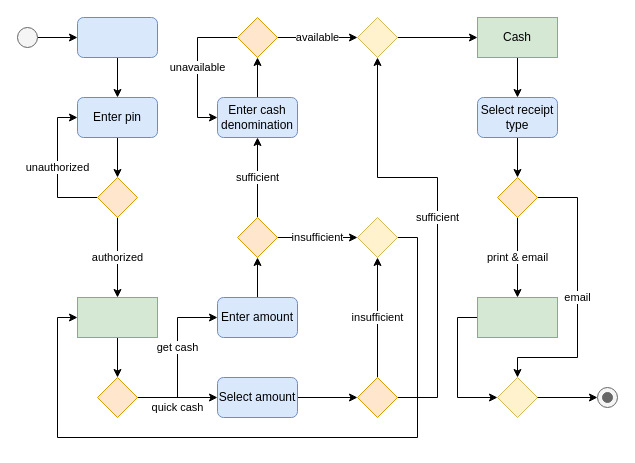
The diagram is 635 pixels wide and 463 high, and some of its shapes have lost their labels. Here are the shapes that lost their labels. From the top down, the centre of each, then its label:
At [117,37]: "Insert card".
At [117,317]: "Main menu".
At [517,317]: "Receipt".
